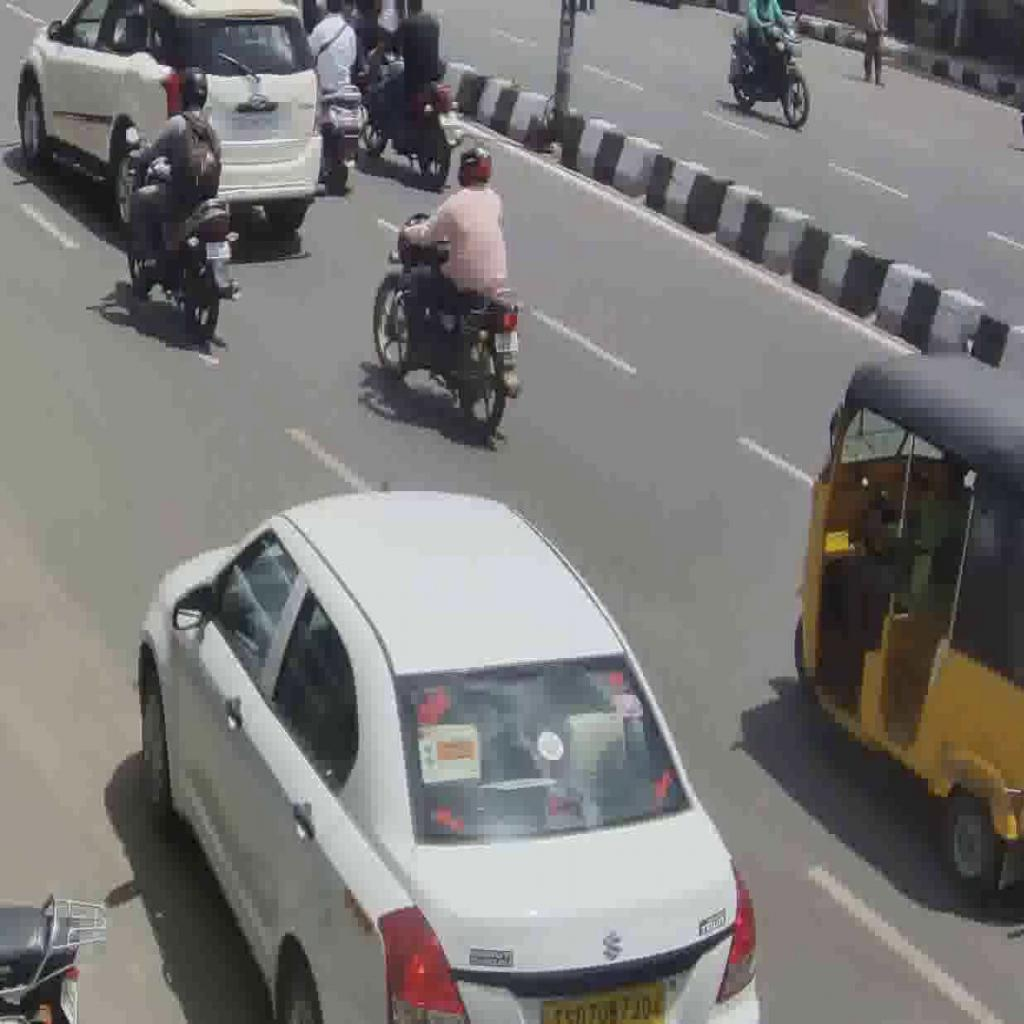bike: (372, 209, 523, 435), (124, 140, 242, 340)
helmet: (456, 144, 494, 189), (178, 64, 208, 112)
lisc: (206, 240, 231, 259), (495, 332, 518, 352)
noise: (726, 0, 812, 128)
rider: (397, 144, 508, 369), (124, 64, 222, 270)
